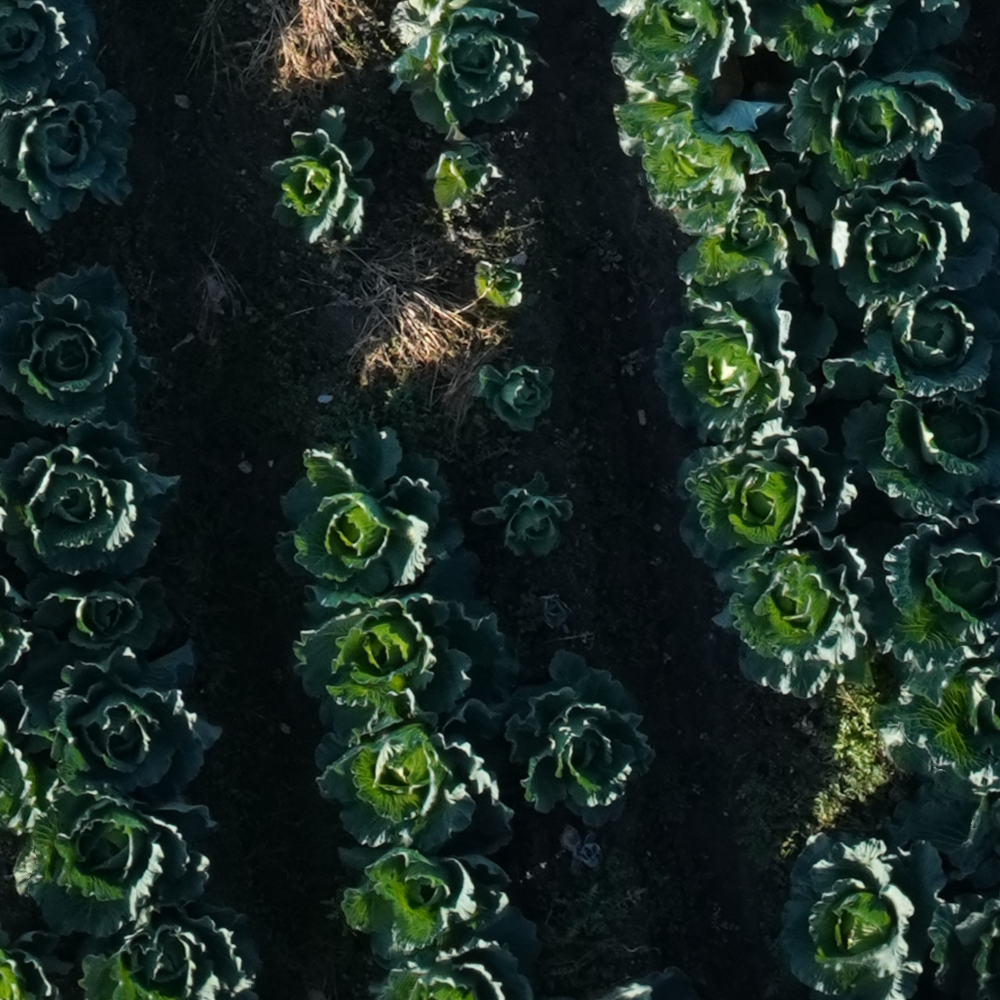Cabbage: (292, 548, 523, 746), (785, 20, 995, 191), (273, 422, 465, 600), (796, 166, 1000, 332), (22, 630, 223, 797), (612, 72, 811, 239), (316, 690, 515, 856), (12, 786, 219, 939), (0, 420, 182, 589), (652, 284, 837, 445), (779, 832, 947, 1000), (675, 419, 857, 573), (713, 528, 874, 701), (867, 498, 999, 708), (505, 650, 656, 828), (0, 263, 160, 429), (0, 61, 135, 232), (818, 287, 1000, 406), (389, 0, 549, 135), (841, 385, 1000, 517), (871, 638, 1000, 800), (336, 846, 512, 961), (76, 899, 264, 999), (597, 0, 762, 109), (676, 189, 818, 305), (369, 906, 540, 1000), (261, 105, 374, 245), (886, 780, 1000, 891), (24, 576, 175, 651), (759, 1, 904, 74), (0, 0, 99, 105), (1, 680, 62, 838), (471, 471, 573, 556), (928, 893, 1000, 1000), (425, 126, 505, 211), (471, 364, 554, 432), (0, 929, 76, 1000), (599, 967, 698, 999), (0, 576, 32, 672), (474, 260, 524, 308), (563, 822, 600, 876)
